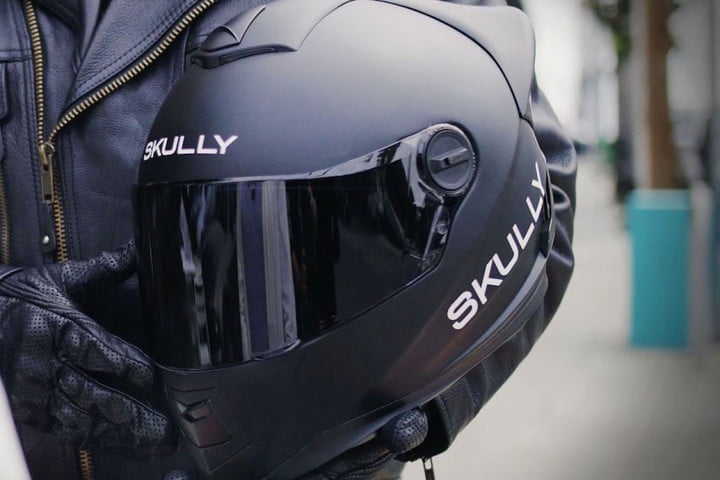with_helmet: (131, 3, 561, 480)
